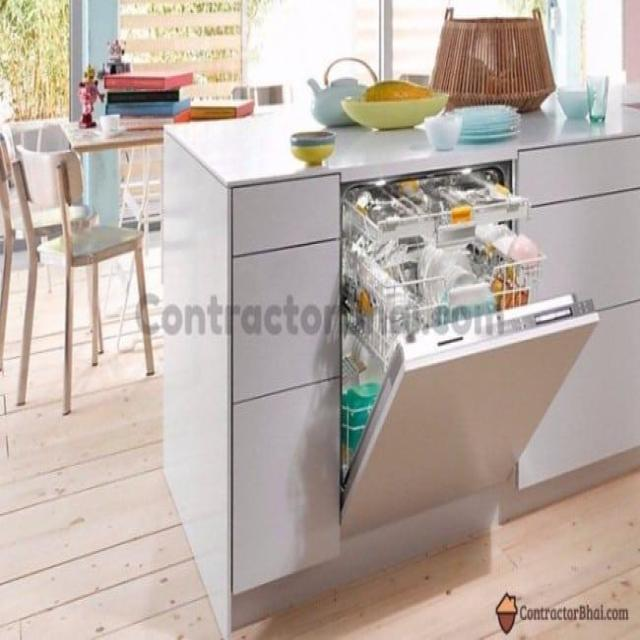dishwasher: (328, 169, 604, 543)
